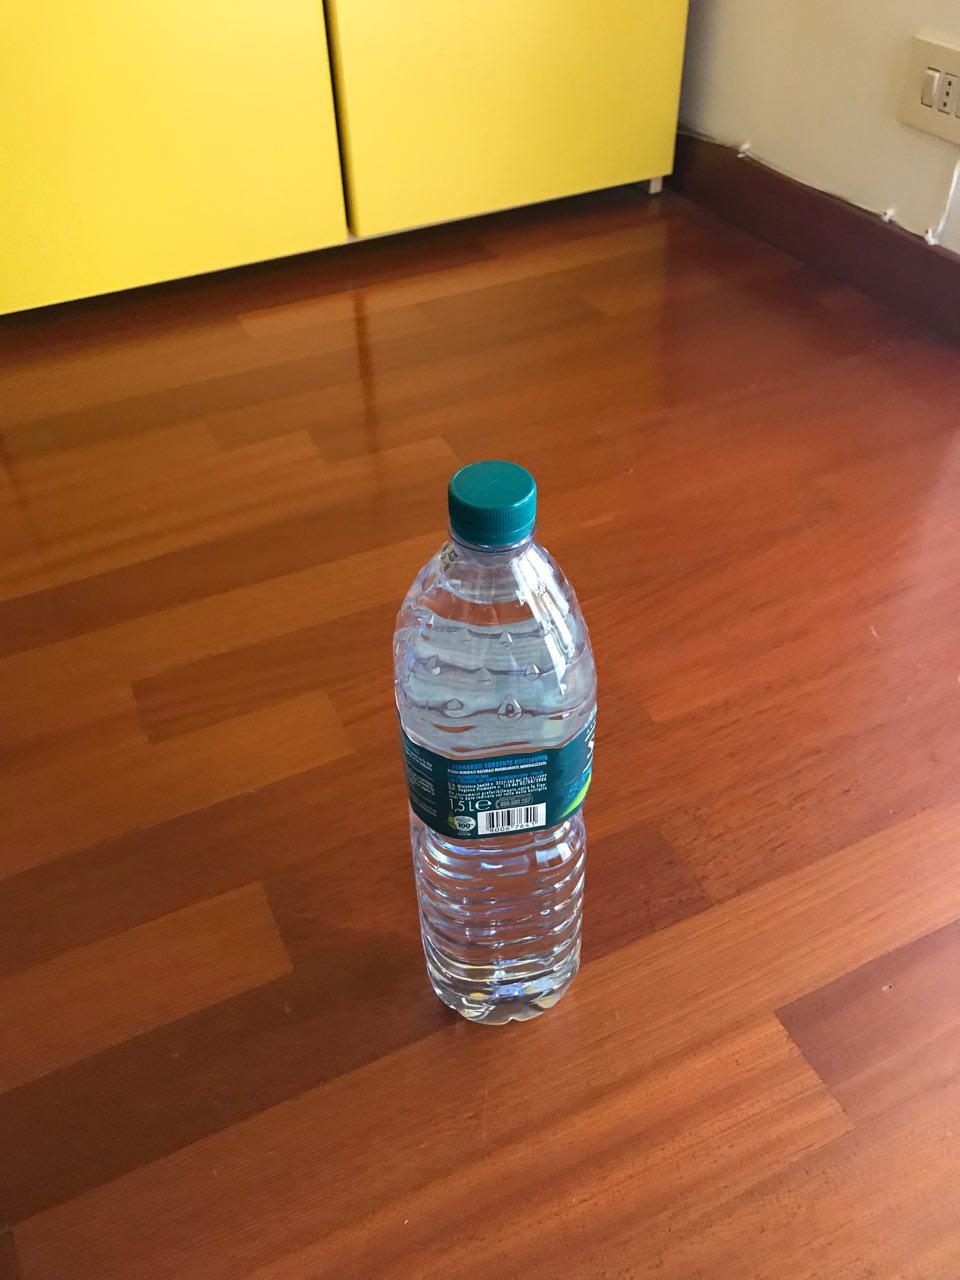san_bernardo: (389, 458, 598, 1028)
